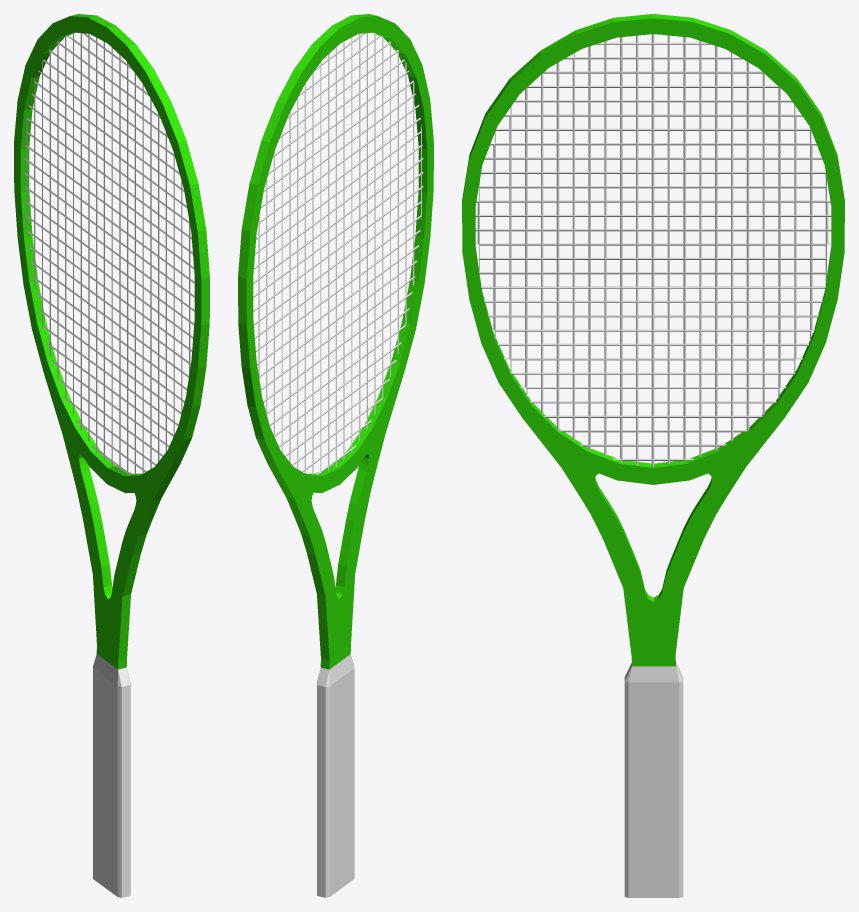
File: racket_green.glb
The picture shows the model from 3 angles, left to right: view 1: azimuth 30°, elevation 25°; view 2: azimuth 150°, elevation 25°; view 3: azimuth 270°, elevation 25°; orthographic projection. The views are drawn at different scales.
Parts seen in each view (by area): view 1: Plane; view 2: Plane; view 3: Plane.
Boxes of the visible parts, x1,y1,x2,y2 form: Plane: (14, 14, 209, 897); Plane: (238, 14, 433, 897); Plane: (462, 14, 844, 897).
Size of the model in its own units: 0.1207 by 7.66 by 3.02.
